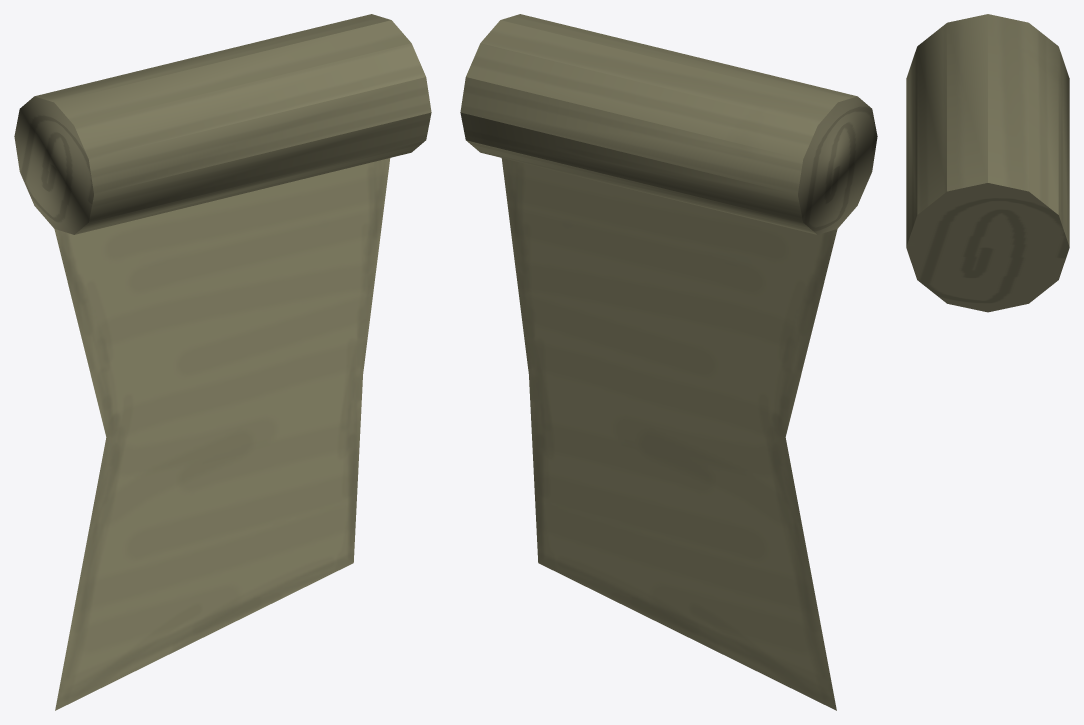
File: frammentoPergamena2.fbx
The picture shows the model from 3 angles, left to right: view 1: azimuth 30°, elevation 25°; view 2: azimuth 150°, elevation 25°; view 3: azimuth 270°, elevation 25°; orthographic projection. The views are drawn at different scales.
Visible parts, largest first — view 1: Cylinder.001; view 2: Cylinder.001; view 3: Cylinder.001.
Boxes of the visible parts, left/top/right/bottom form: Cylinder.001: left=14, top=14, right=431, bottom=710; Cylinder.001: left=460, top=14, right=877, bottom=710; Cylinder.001: left=906, top=14, right=1069, bottom=312.
Size of the model in its own units: 34.92 by 60.18 by 14.29.
